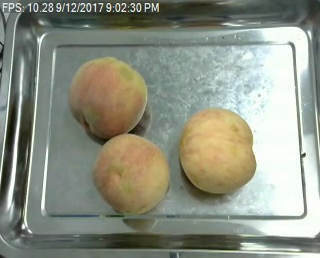Peach: (68, 56, 148, 139), (181, 107, 256, 193), (93, 133, 170, 215)
